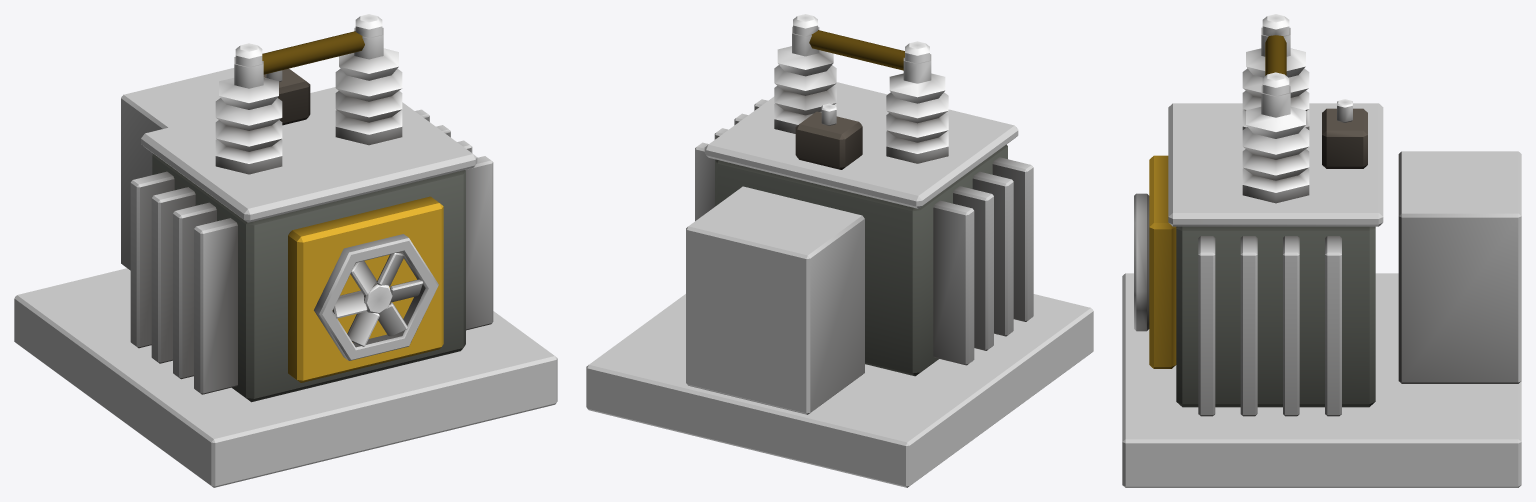
The model's file is R4X_Battery_LOD1.fbx.
The picture shows the model from 3 angles, left to right: view 1: azimuth 30°, elevation 25°; view 2: azimuth 150°, elevation 25°; view 3: azimuth 270°, elevation 25°; orthographic projection. The views are drawn at different scales.
Visible parts, largest first — view 1: R4X_Battery_LOD1; view 2: R4X_Battery_LOD1; view 3: R4X_Battery_LOD1.
Part boxes in pixels (left/top/right/bottom): R4X_Battery_LOD1: left=14, top=14, right=557, bottom=487; R4X_Battery_LOD1: left=586, top=14, right=1093, bottom=487; R4X_Battery_LOD1: left=1122, top=14, right=1521, bottom=487.
Bounding box in the file's own units: 0.52 × 0.514 × 0.52.
